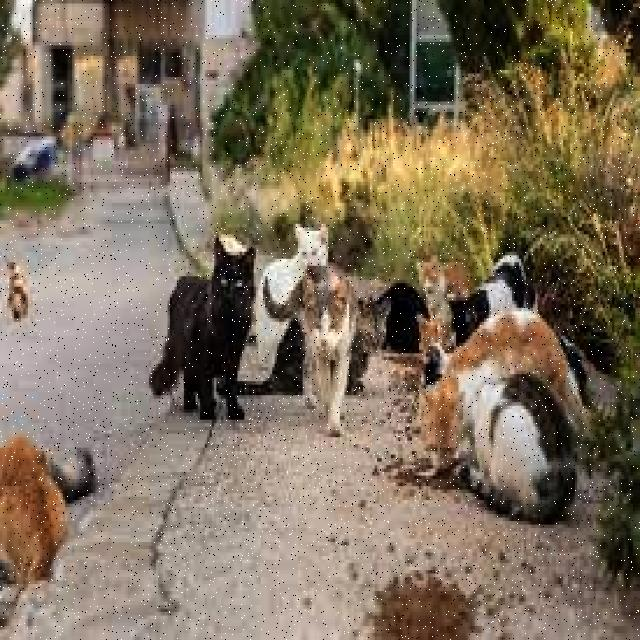cat: (423, 314, 584, 450), (150, 235, 255, 419), (468, 374, 576, 521), (266, 261, 357, 435), (239, 224, 327, 380), (0, 438, 66, 587), (452, 254, 531, 343), (376, 282, 429, 350), (41, 447, 95, 502), (9, 261, 26, 318)
